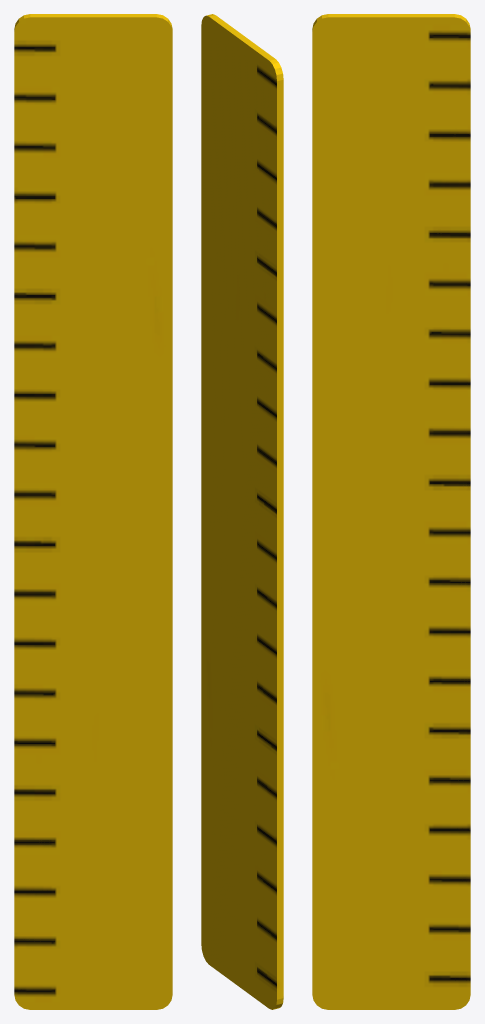
The model's file is Ruler.fbx.
3 renders of one model, left to right at view 1: azimuth 90°, elevation 25°; view 2: azimuth 210°, elevation 25°; view 3: azimuth 270°, elevation 25°, orthographic. The views are drawn at different scales.
Visible parts, largest first — view 1: Ruler; view 2: Ruler; view 3: Ruler.
Boxes of the visible parts, x1,y1,x2,y2 form: Ruler: [14, 14, 172, 1009]; Ruler: [201, 14, 283, 1009]; Ruler: [312, 14, 470, 1009].
Size of the model in its own units: 1.5 by 205 by 29.7.
